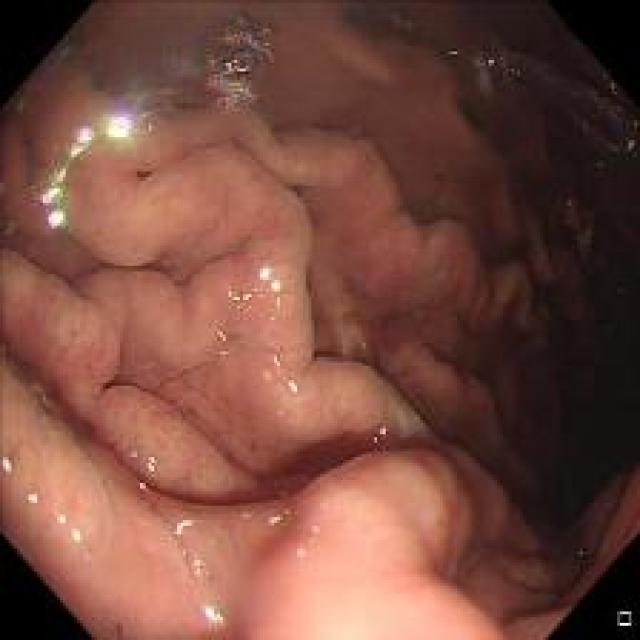bubbles: (168, 516, 238, 590), (484, 45, 529, 86), (365, 415, 391, 448), (391, 9, 420, 32), (601, 319, 619, 339), (619, 379, 634, 402), (612, 279, 626, 300), (578, 225, 594, 242), (590, 155, 605, 170), (4, 216, 16, 232)
color misalignment: (200, 9, 282, 121), (26, 164, 78, 238), (64, 118, 98, 155), (100, 102, 144, 128), (618, 125, 636, 159), (449, 31, 464, 62)
contrast: (445, 0, 639, 595)
specularity: (221, 285, 256, 316), (196, 594, 225, 626), (211, 325, 234, 365), (55, 511, 81, 544), (256, 264, 286, 292), (280, 372, 308, 402), (260, 351, 282, 388), (260, 509, 291, 534), (104, 119, 132, 146), (145, 454, 164, 482), (171, 518, 192, 534), (26, 490, 39, 502), (194, 560, 202, 579), (2, 455, 10, 471)
